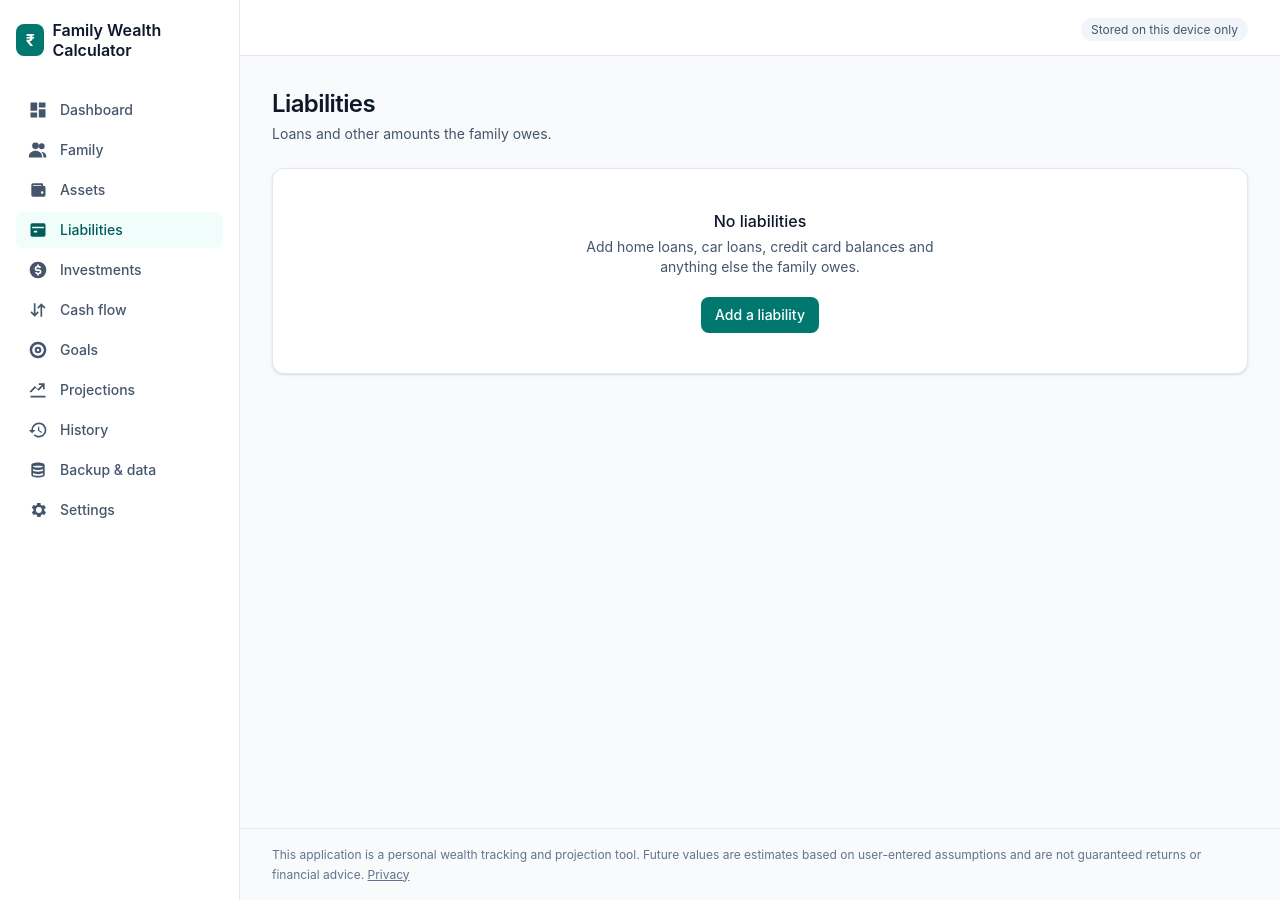
Test case: Liabilities page › asks for a family member first when there are none
Click the button "Add a liability". click: (760, 315)
box: [701, 297, 819, 333]
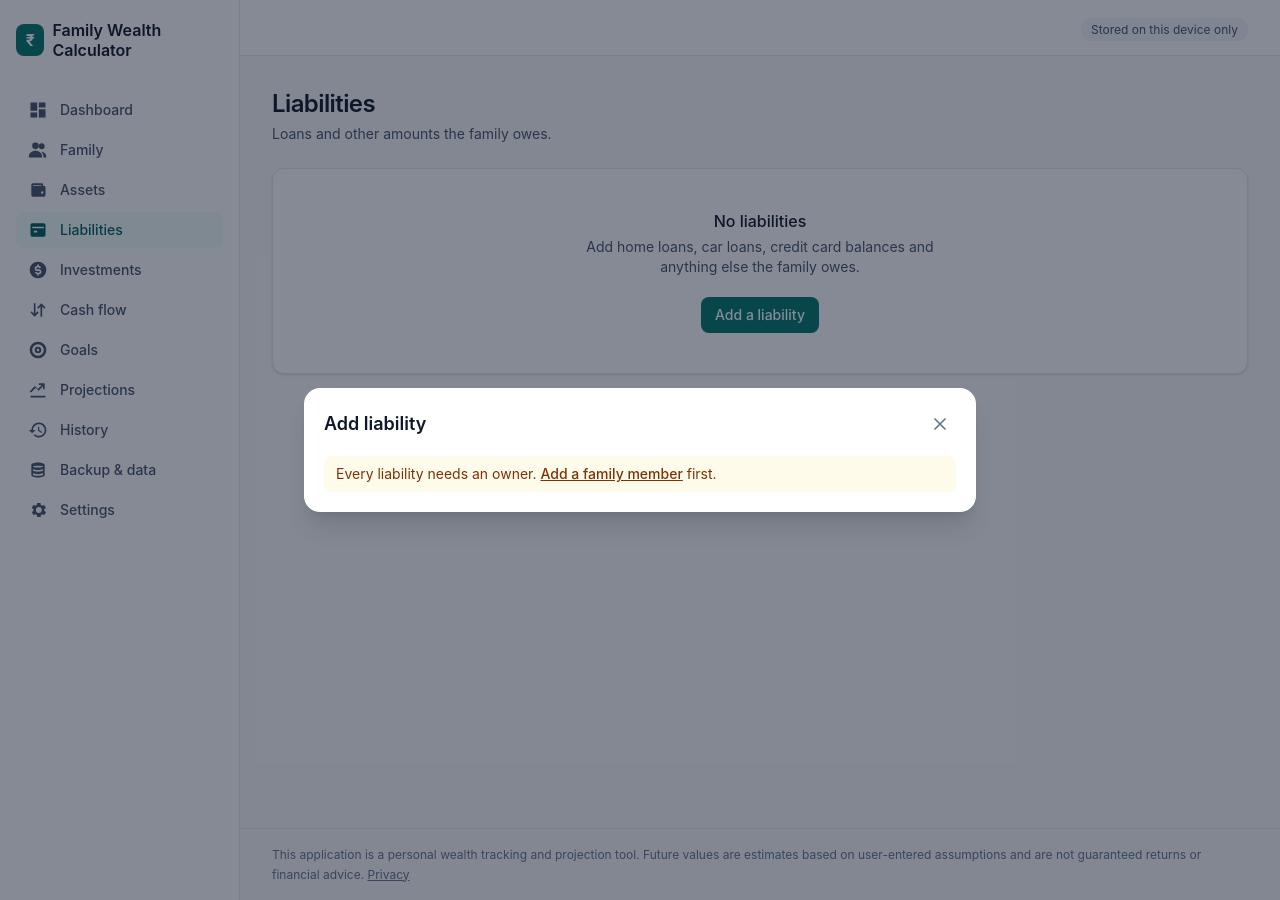
Check: the link "Add a family member" is shown, box [540, 465, 683, 482]
